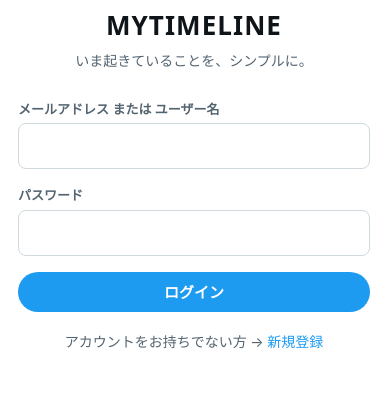
Test: LoginPage › 同値分割（項目エラー）: fieldErrors は各項目の下に出し、全体の帯は出さない
Type "alice" into the field labelled "メールアドレス または ユーザー名". click: (194, 146)
box: [18,123,370,169]
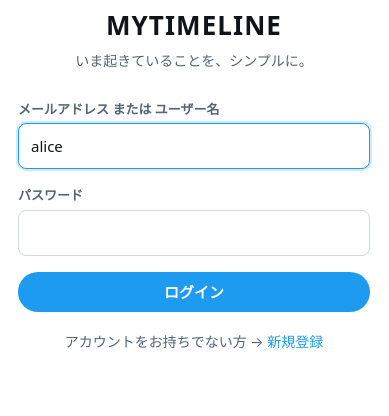
Type "password123" into the password field labelled "パスワード". click: (194, 233)
box: [18,210,370,256]
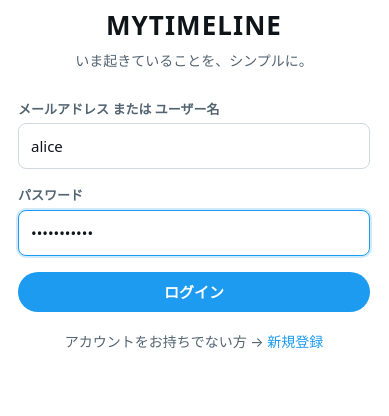
Click the button "ログイン". click: (194, 292)
box: [18,272,370,312]
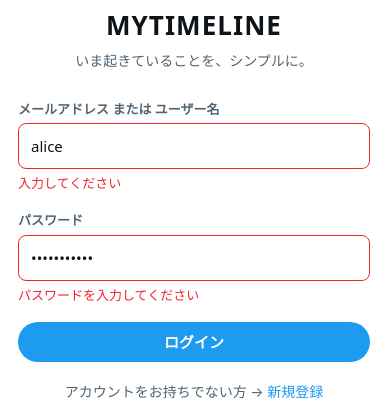
Result: the text "入力してください" is shown at [18,174,121,192]
Result: the text "パスワードを入力してください" is shown at [18,286,199,304]
